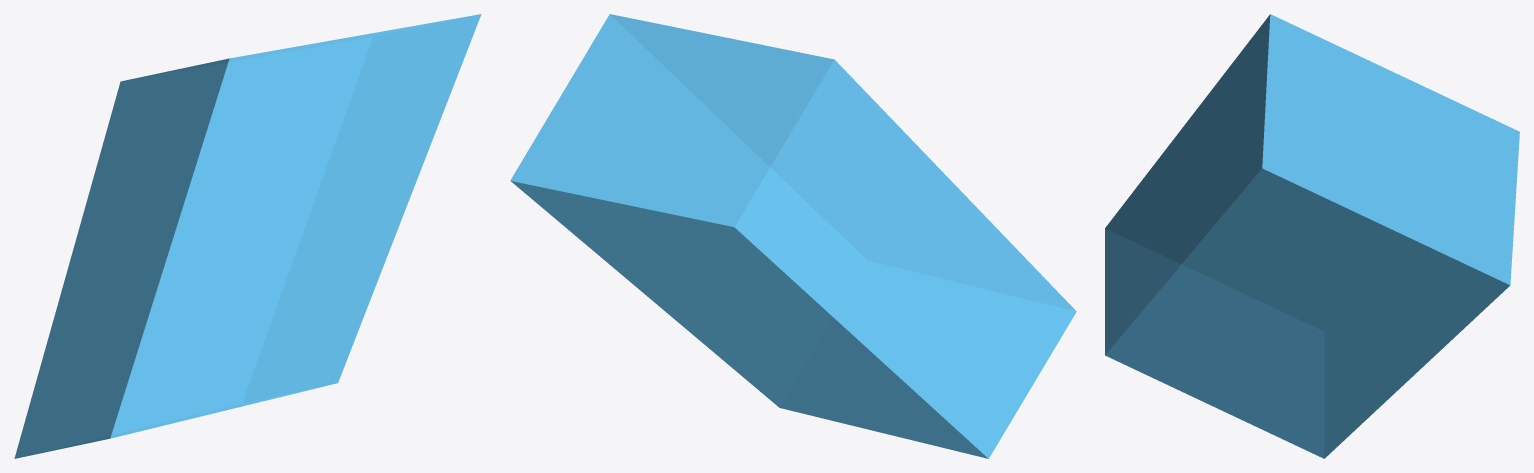
File: Event_421556567_HBrechit_21.fbx
3 renders of one model, left to right at view 1: azimuth 30°, elevation 25°; view 2: azimuth 150°, elevation 25°; view 3: azimuth 270°, elevation 25°, orthographic. The views are drawn at different scales.
Visible parts, largest first — view 1: Model; view 2: Model; view 3: Model.
Part boxes in pixels (x1=…): Model: x1=14, y1=14, x2=481, y2=458; Model: x1=510, y1=14, x2=1076, y2=458; Model: x1=1105, y1=14, x2=1519, y2=458.
Bounding box in the file's own units: 0.9444 × 0.7611 × 0.6739.
